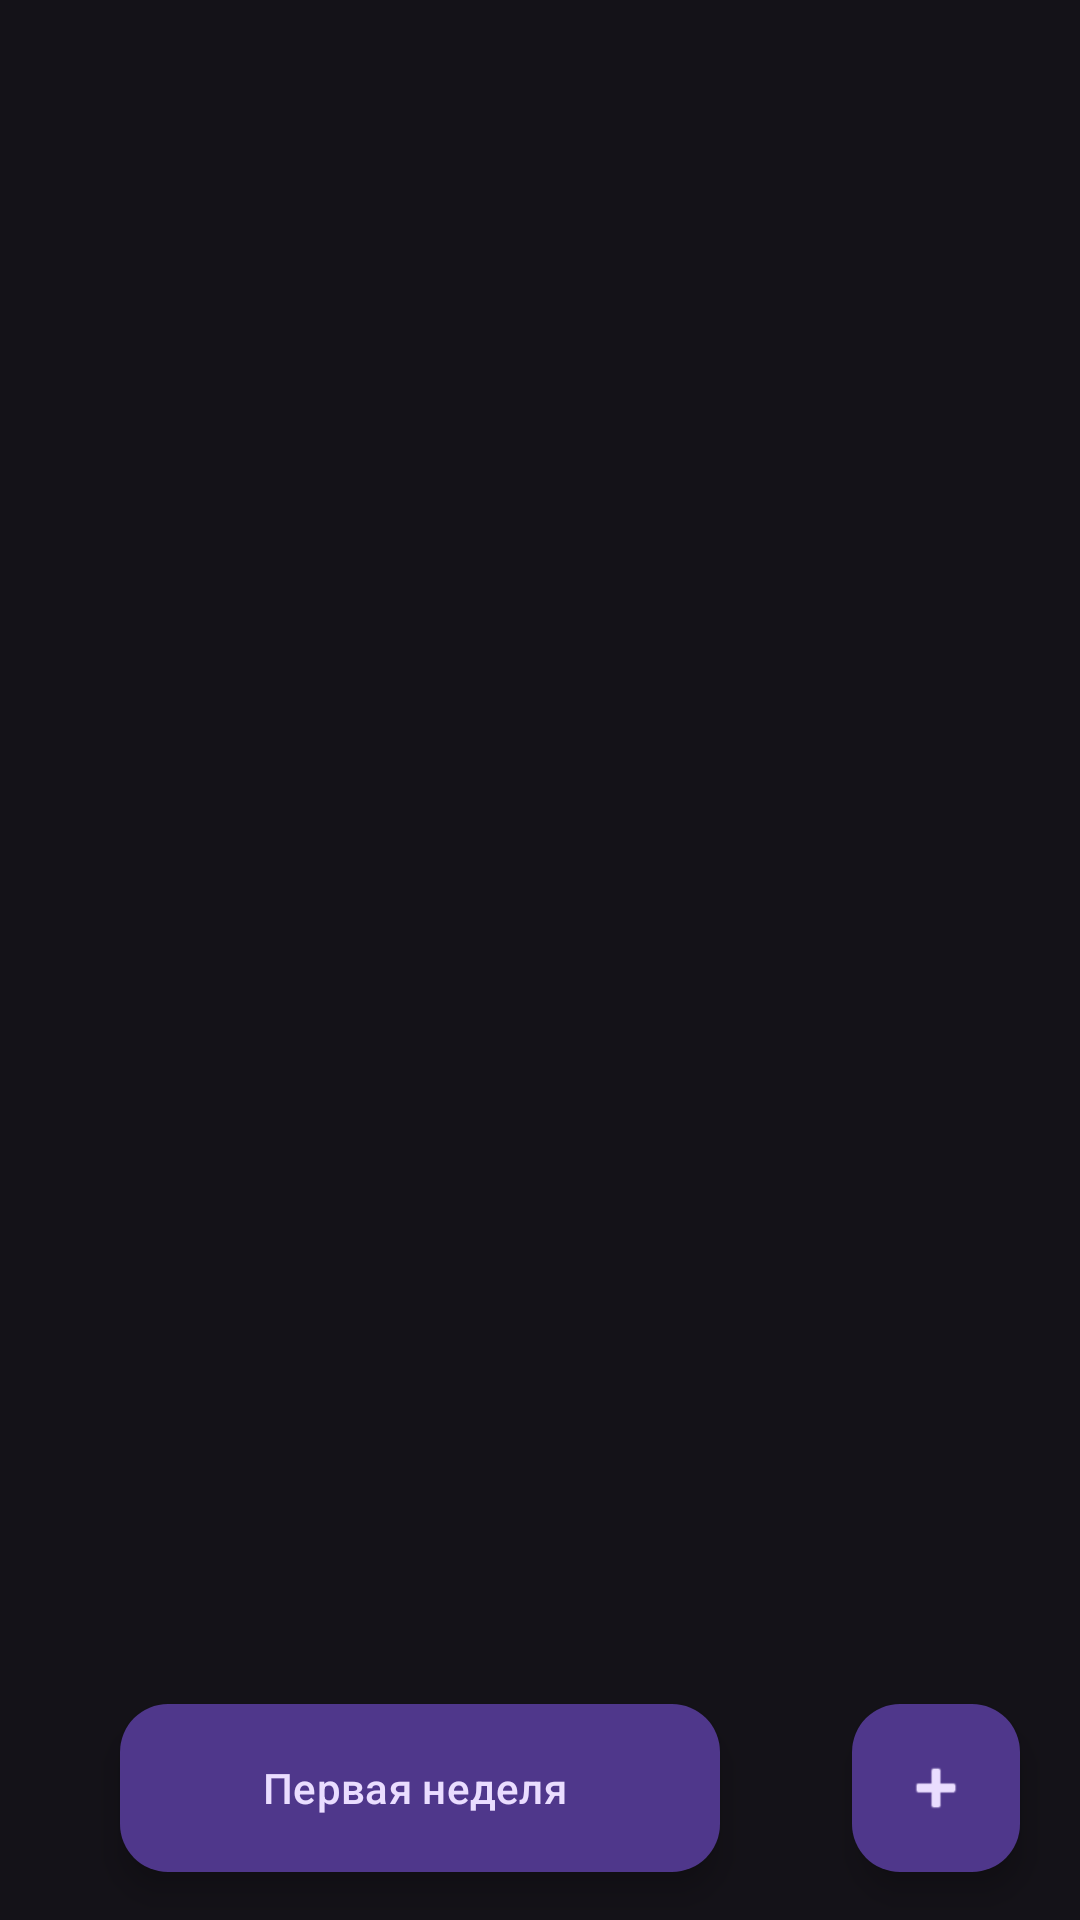

Screen size 1080 x 1920. Icon name, then its box in pixels as {"left": x1, "top": y1, "right": x2, "bottom": y2}:
add: {"left": 852, "top": 1704, "right": 1020, "bottom": 1872}
